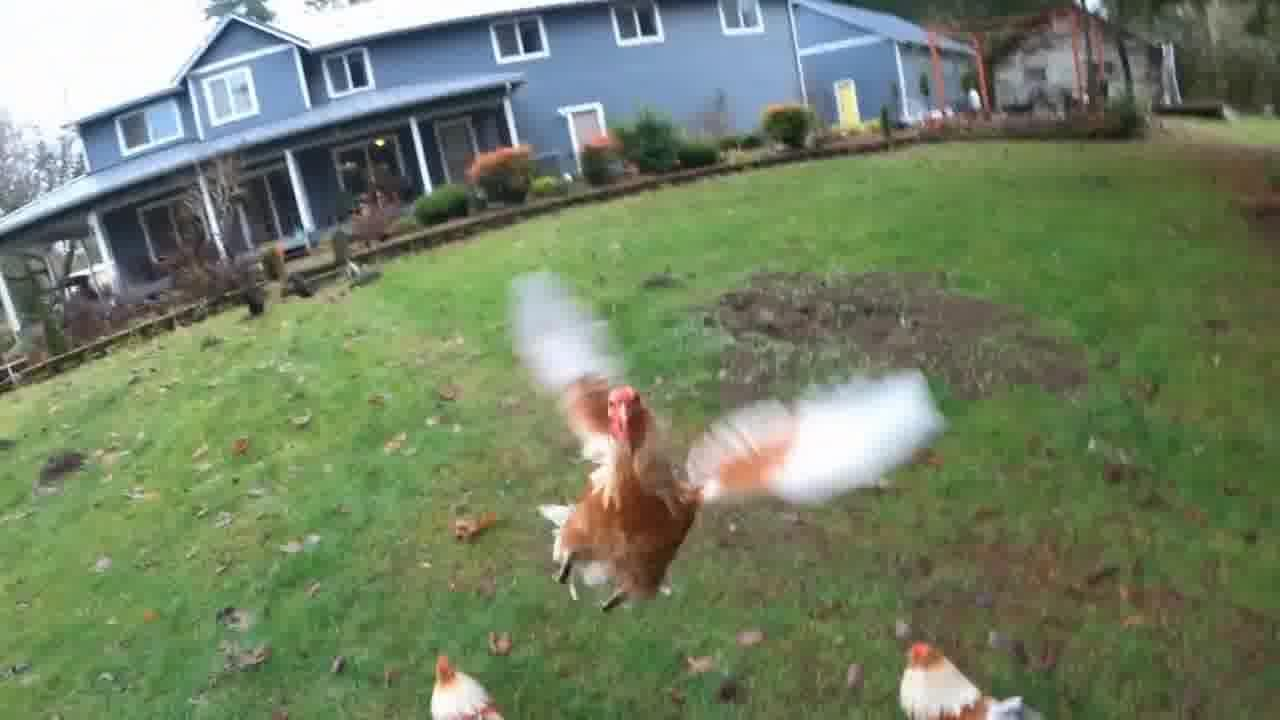Normal: (504, 280, 786, 630), (882, 622, 1090, 720), (392, 636, 538, 720)
